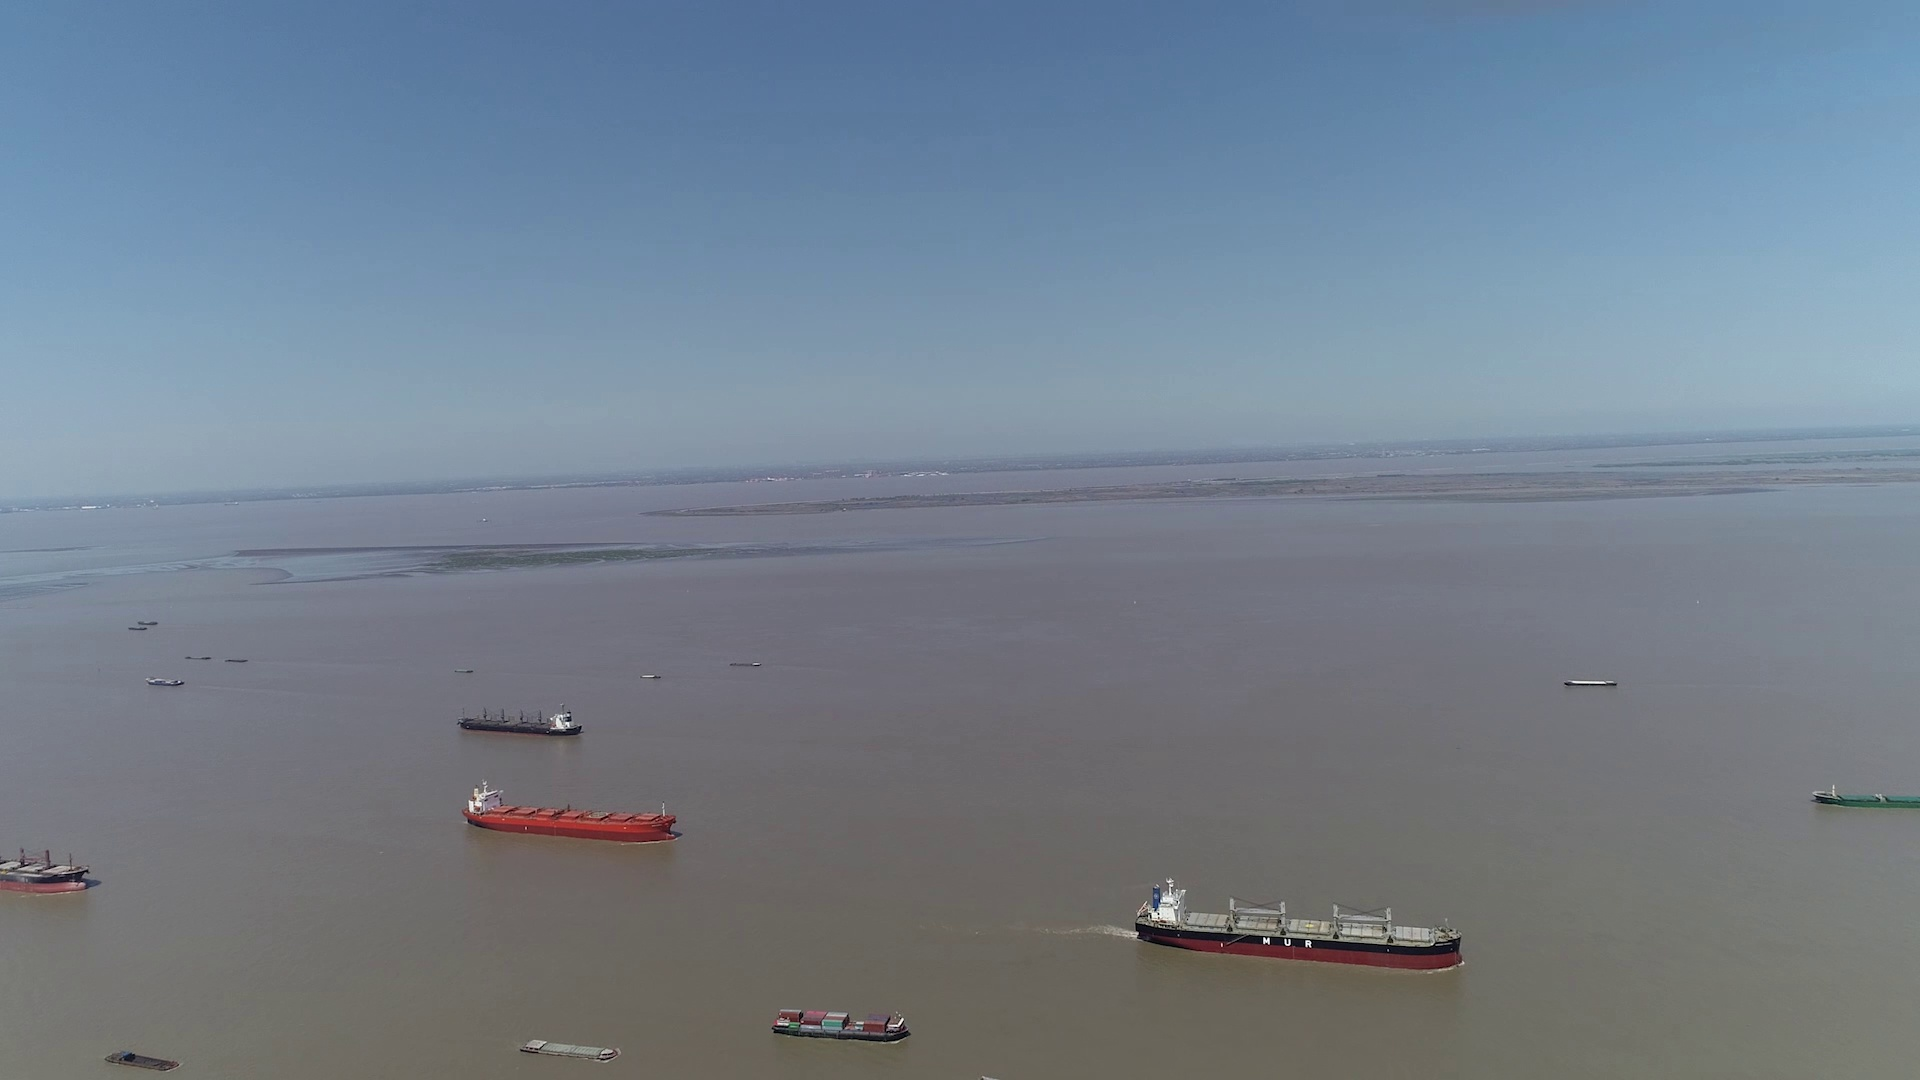ship: (1137, 878, 1464, 971), (465, 779, 678, 844), (0, 833, 92, 895), (774, 1007, 910, 1043), (458, 704, 582, 737), (1812, 787, 1920, 810), (520, 1036, 621, 1060), (103, 1048, 178, 1069), (1565, 678, 1617, 687), (146, 676, 185, 687)
